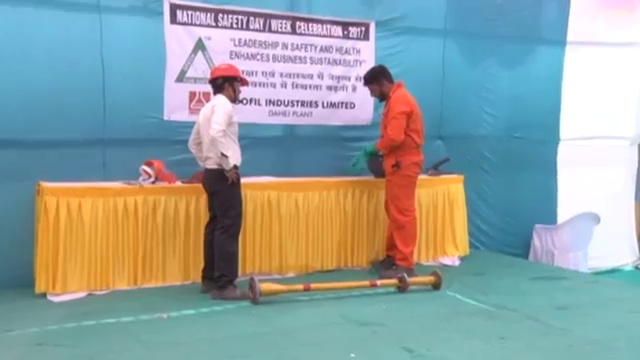helmet: (208, 64, 248, 88)
helmet_off: (363, 65, 394, 103)
helmet_on: (207, 64, 253, 104)
person: (188, 64, 252, 302), (361, 64, 424, 277)
